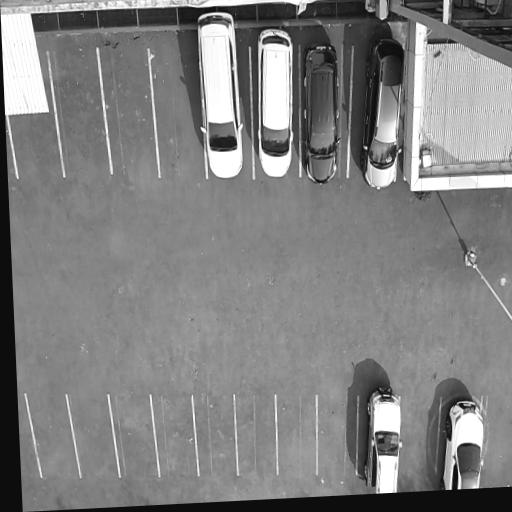Car: (192, 12, 248, 182), (359, 39, 406, 193), (255, 28, 296, 184), (303, 35, 341, 188), (437, 393, 488, 491), (362, 386, 402, 494)
Space Available: (98, 49, 158, 179), (48, 52, 110, 175), (150, 52, 205, 181), (25, 395, 79, 480), (67, 394, 118, 480), (108, 396, 158, 479), (192, 396, 237, 479), (152, 398, 198, 479), (233, 395, 277, 479), (8, 111, 62, 179), (275, 393, 316, 477), (316, 395, 357, 477), (401, 397, 440, 472), (482, 397, 512, 474)
